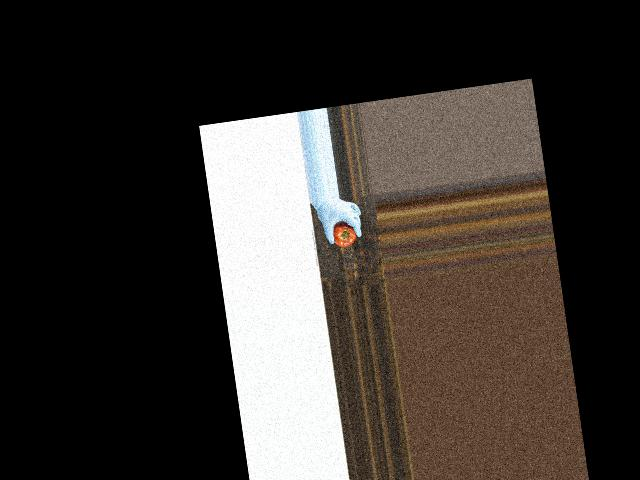tomato: (331, 221, 357, 249)
